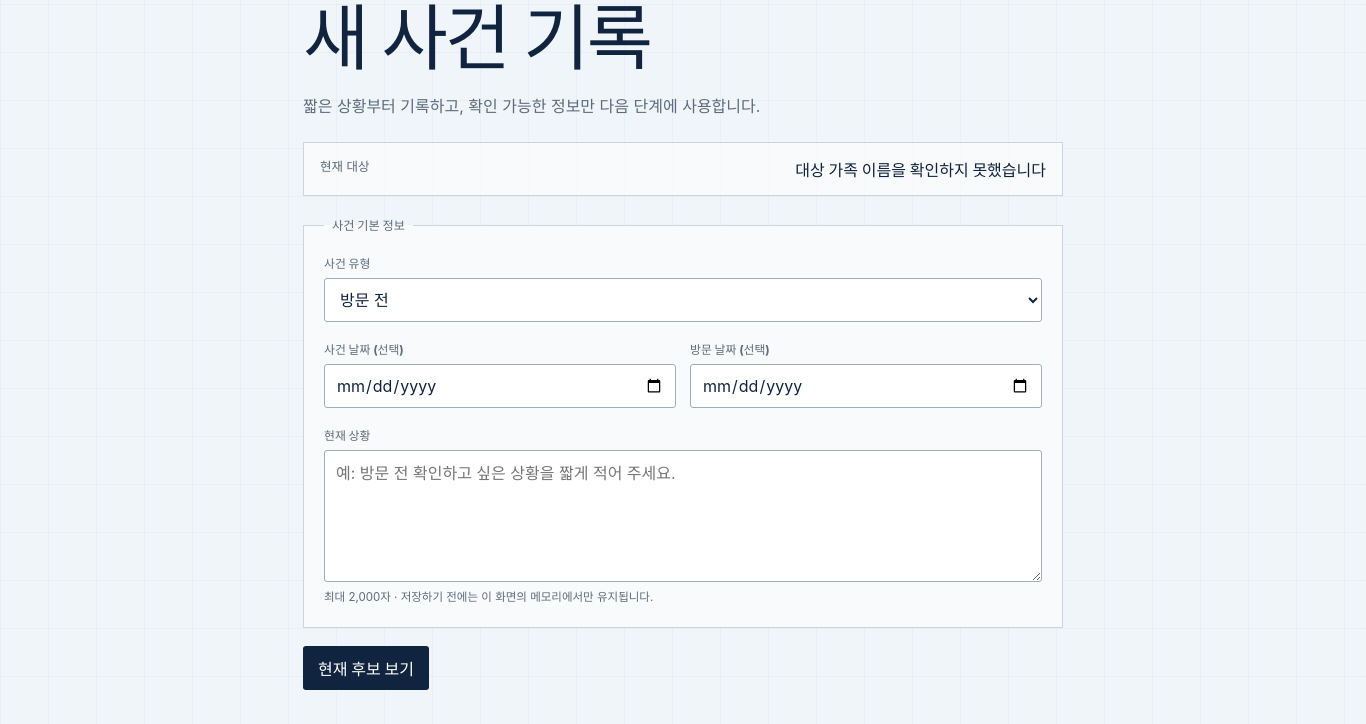
Test: hybrid medical event input › creates a server event before exposing structure and analysis actions
Step 1. Type "Synthetic pre-visit situation" into the text box labelled "현재 상황" → x=683, y=516, box left=324, top=450, right=1042, bottom=582
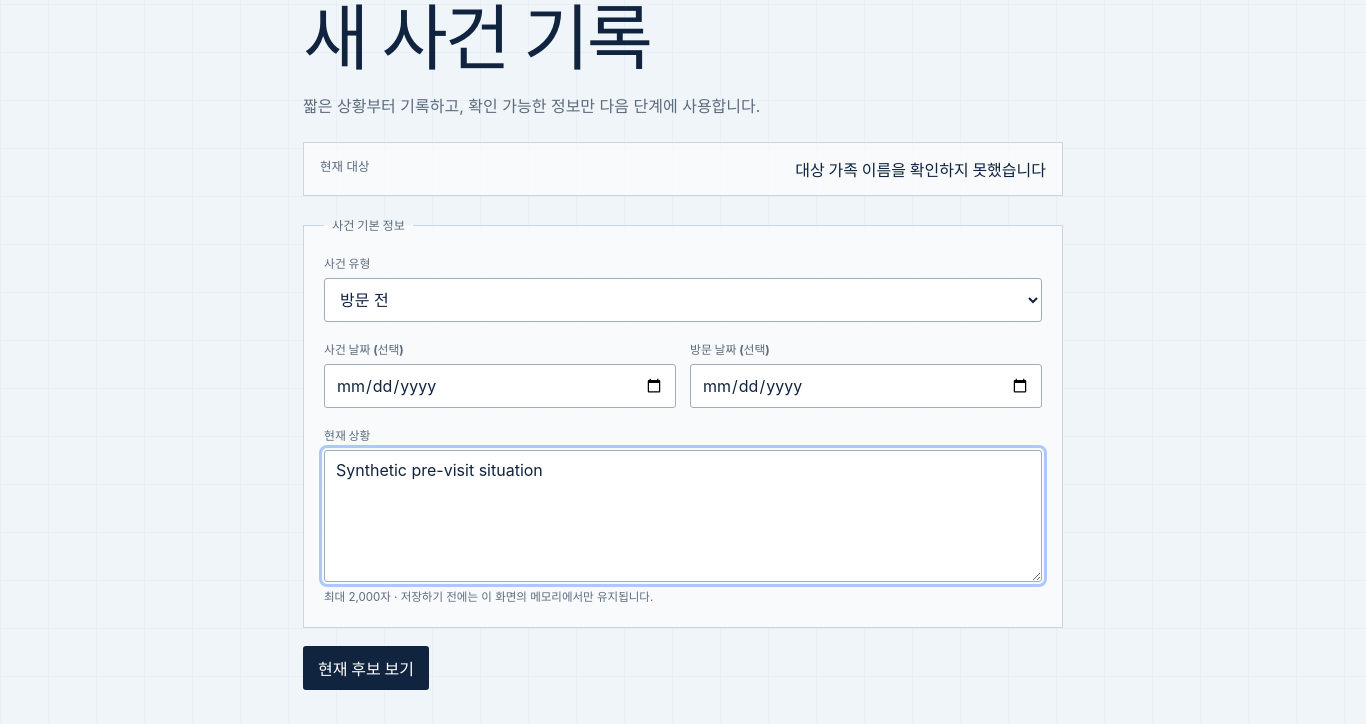
Step 2. Click the button "현재 후보 보기" → x=366, y=668, box left=303, top=646, right=429, bottom=690
(page scrolled)
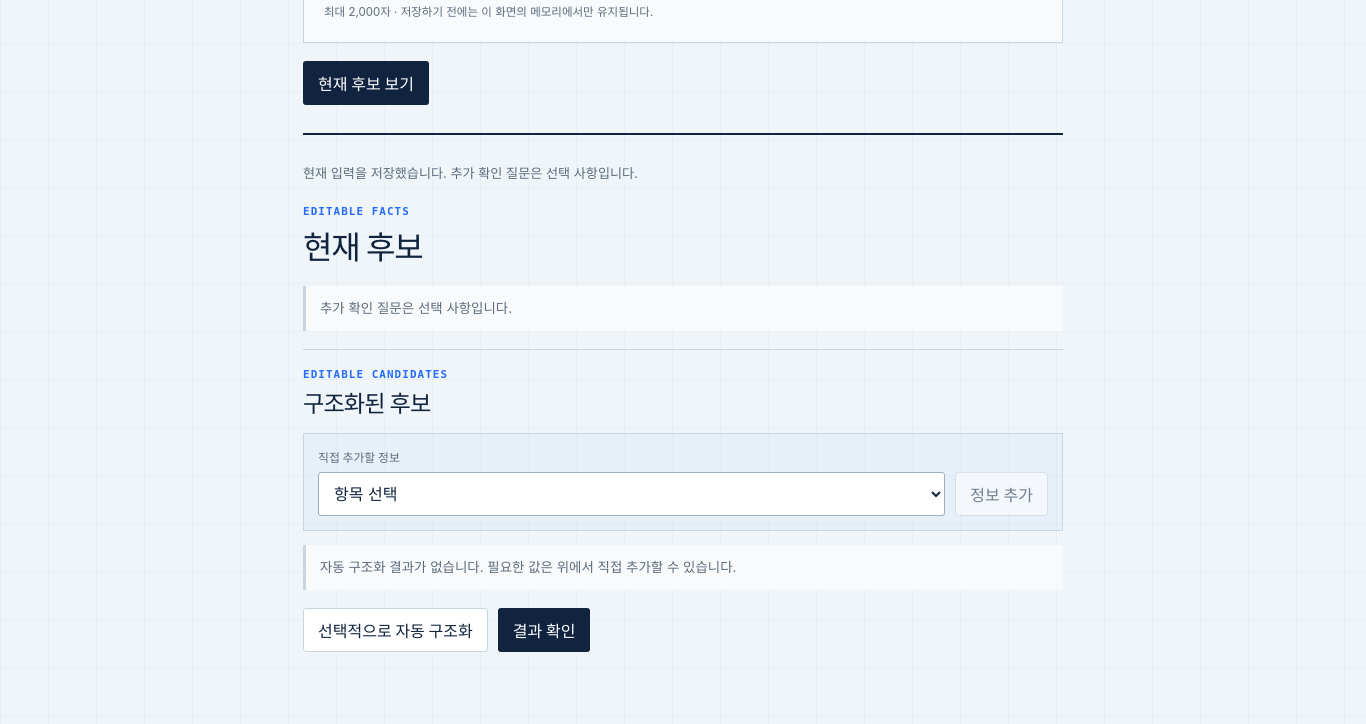
Result: the button "결과 확인" is shown at left=498, top=608, right=590, bottom=652
